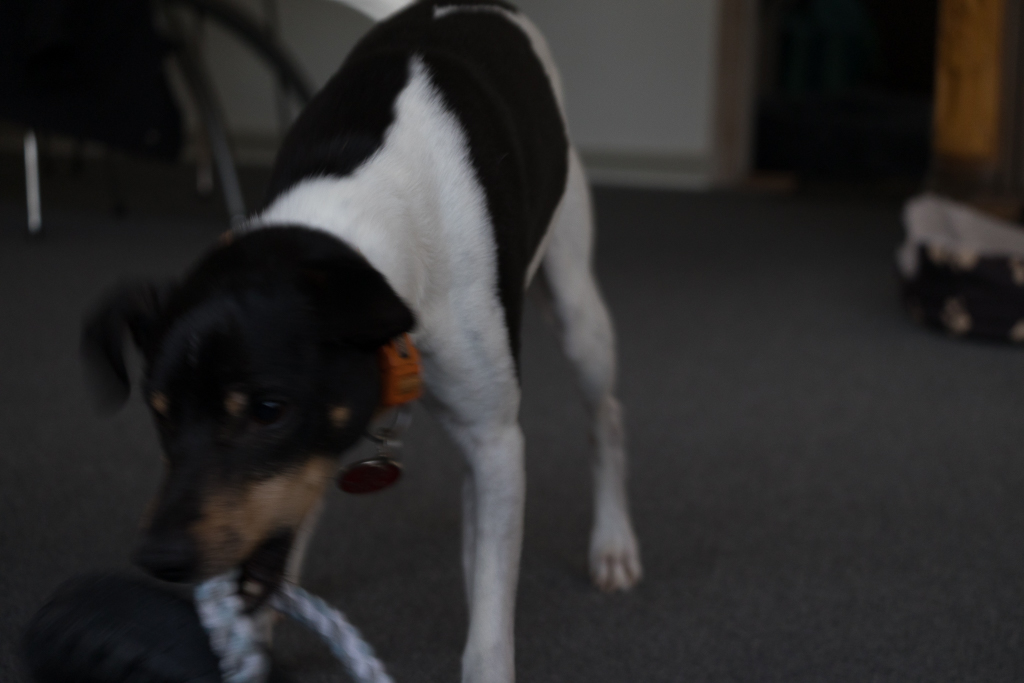Dog: (76, 0, 680, 683)
